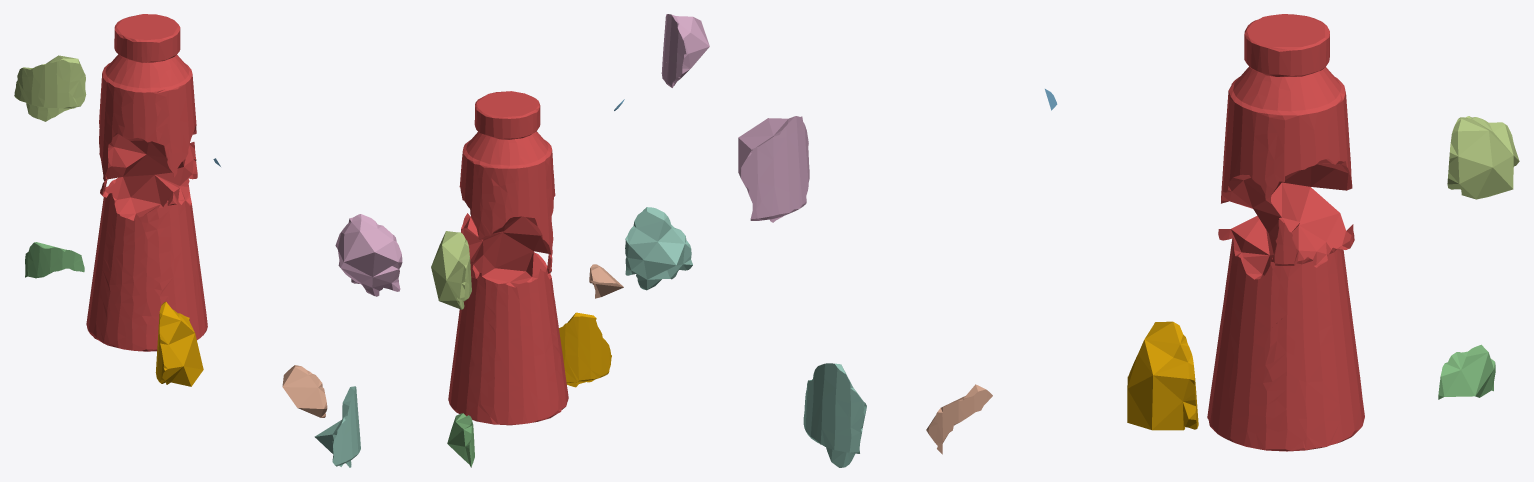
The model's file is mode_19_8pcs_transformed.glb.
3 renders of one model, left to right at view 1: azimuth 30°, elevation 25°; view 2: azimuth 150°, elevation 25°; view 3: azimuth 270°, elevation 25°, orthographic. The views are drawn at different scales.
Visible parts, largest first — view 1: piece_1.obj, piece_5.obj, piece_4.obj, piece_0.obj, piece_3.obj, piece_7.obj, piece_2.obj; view 2: piece_1.obj, piece_3.obj, piece_0.obj, piece_4.obj, piece_5.obj, piece_2.obj, piece_7.obj; view 3: piece_1.obj, piece_0.obj, piece_5.obj, piece_4.obj, piece_3.obj, piece_2.obj, piece_7.obj.
Boxes of the visible parts, left/top/right/bottom form: piece_1.obj: left=86, top=14, right=207, bottom=351; piece_5.obj: left=335, top=214, right=402, bottom=296; piece_4.obj: left=14, top=55, right=86, bottom=121; piece_0.obj: left=155, top=302, right=203, bottom=386; piece_3.obj: left=314, top=386, right=360, bottom=467; piece_7.obj: left=282, top=365, right=327, bottom=417; piece_2.obj: left=25, top=242, right=84, bottom=278; piece_1.obj: left=448, top=91, right=568, bottom=425; piece_3.obj: left=625, top=207, right=692, bottom=290; piece_0.obj: left=559, top=312, right=611, bottom=387; piece_4.obj: left=431, top=231, right=471, bottom=309; piece_5.obj: left=661, top=14, right=709, bottom=87; piece_2.obj: left=447, top=413, right=474, bottom=467; piece_7.obj: left=589, top=264, right=623, bottom=298; piece_1.obj: left=1207, top=14, right=1364, bottom=451; piece_0.obj: left=1127, top=321, right=1198, bottom=430; piece_5.obj: left=738, top=116, right=809, bottom=222; piece_4.obj: left=1447, top=116, right=1519, bottom=199; piece_3.obj: left=803, top=363, right=866, bottom=467; piece_2.obj: left=1438, top=344, right=1495, bottom=399; piece_7.obj: left=926, top=384, right=992, bottom=454.
Size of the model in its own units: 0.3678 by 1.07 by 1.82.
